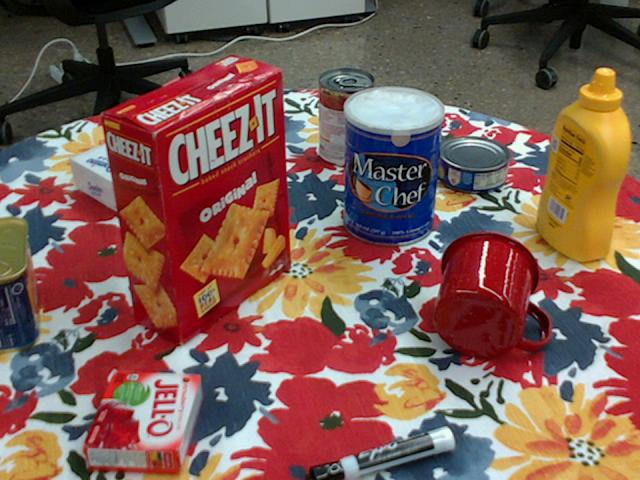cracker_box: (97, 55, 286, 343)
gelatin_box: (86, 371, 202, 472)
large_marker: (306, 426, 456, 479)
master_chef_can: (344, 86, 444, 247)
mug: (434, 230, 550, 358)
mustard_bottle: (534, 70, 628, 262)
potted_meat_can: (0, 215, 38, 350)
sugar_box: (68, 111, 235, 215)
tomato_soup_can: (318, 68, 374, 167)
tuna_fish_can: (438, 137, 511, 194)
